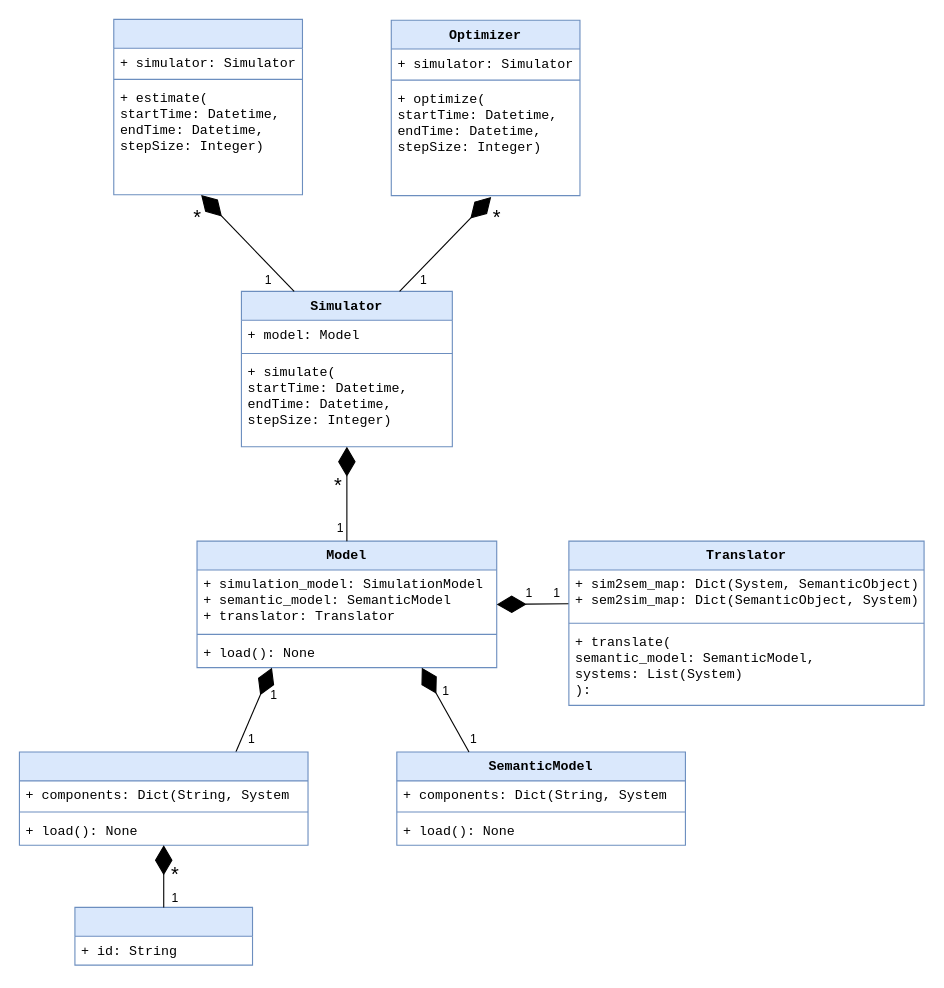
Image size: 944x988. Some labels were removed from this diagram. Here are the shapes that lost their labels. From the top down, the box of each, then its label:
(113, 18, 302, 195): Estimator
(18, 751, 308, 845): SimulationModel
(74, 906, 253, 965): System
